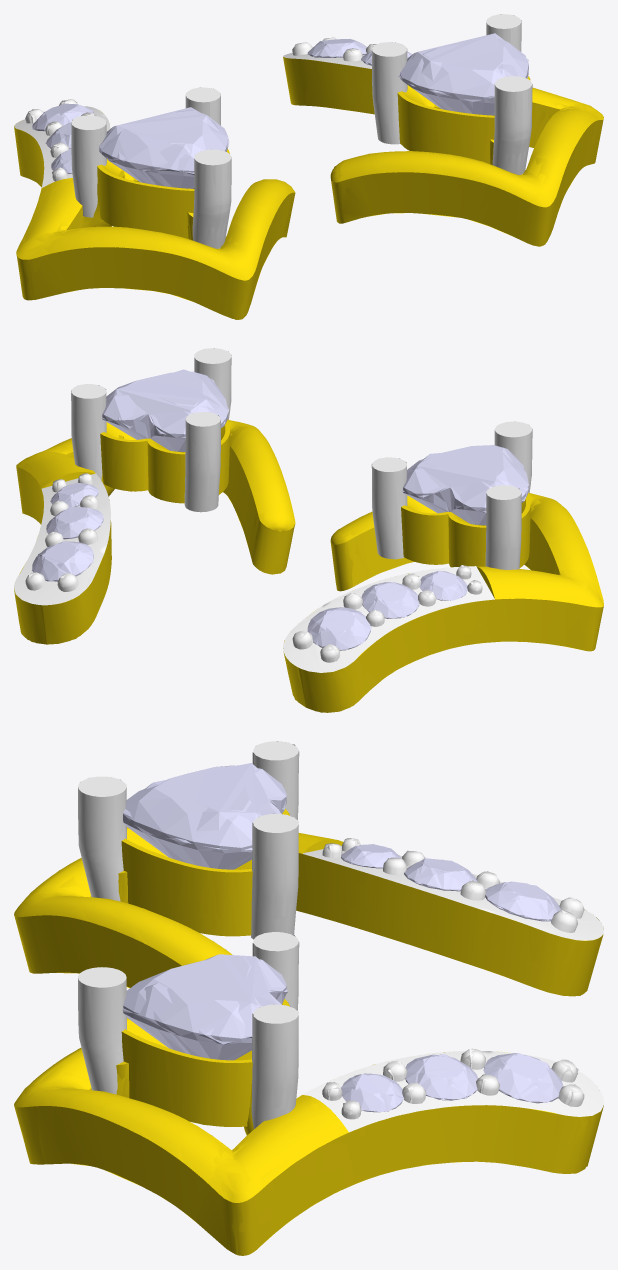
The picture shows the model from 3 angles, top to bottom: view 1: azimuth 30°, elevation 25°; view 2: azimuth 150°, elevation 25°; view 3: azimuth 270°, elevation 25°; orthographic projection. The views are drawn at different scales.
Parts seen in each view (by area): view 1: highPolyMesh, lowPolyMesh; view 2: highPolyMesh, lowPolyMesh; view 3: highPolyMesh, lowPolyMesh.
Boxes of the visible parts, x1,y1,x2,y2 form: highPolyMesh: [14, 14, 603, 319]; lowPolyMesh: [14, 14, 603, 319]; highPolyMesh: [14, 348, 603, 712]; lowPolyMesh: [14, 348, 603, 712]; highPolyMesh: [14, 741, 603, 1255]; lowPolyMesh: [14, 741, 603, 1255].
Size of the model in its own units: 0.0139 by 0.00337 by 0.00932.
